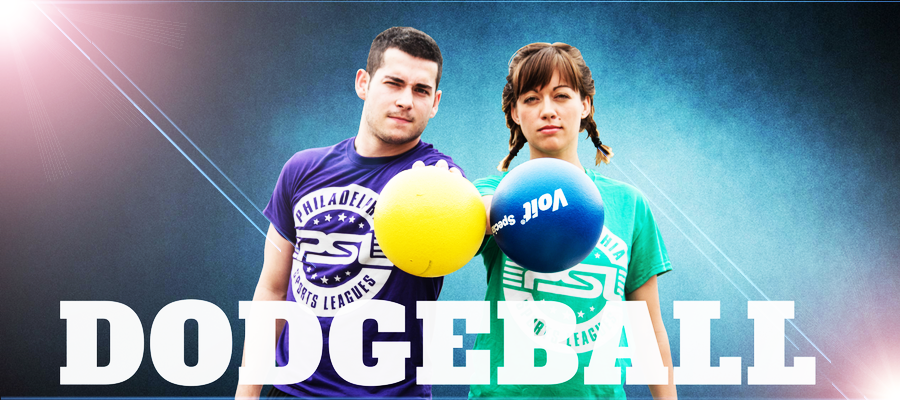blue ball: (489, 157, 605, 272)
